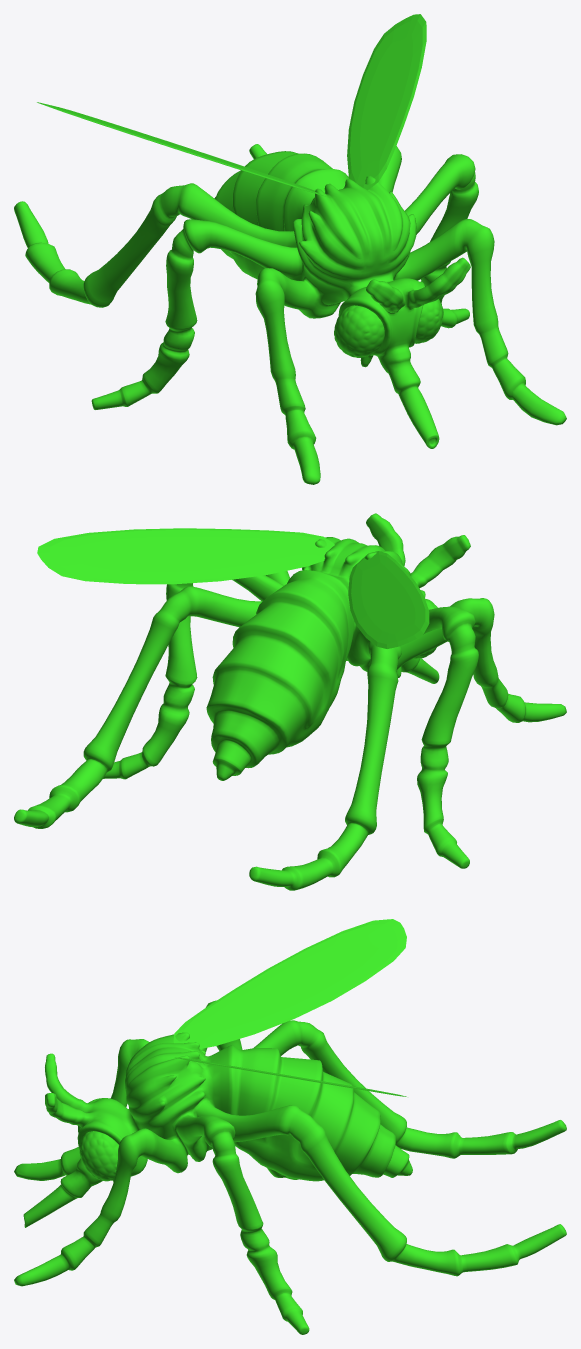
Rendered from bug-3.fbx.
3 views of the same model, one above another, from view 1: azimuth 30°, elevation 25°; view 2: azimuth 150°, elevation 25°; view 3: azimuth 270°, elevation 25° (orthographic). The views are drawn at different scales.
Visible parts, largest first — view 1: 19911_Mosquito_V1_, Plane.001, Plane; view 2: 19911_Mosquito_V1_, Plane.001, Plane; view 3: 19911_Mosquito_V1_, Plane, Plane.001.
Part boxes in pixels (x1,y1,x2,y2): 19911_Mosquito_V1_: (14, 144, 566, 484); Plane.001: (347, 14, 426, 190); Plane: (37, 102, 333, 198); 19911_Mosquito_V1_: (14, 513, 566, 890); Plane.001: (37, 528, 334, 584); Plane: (348, 551, 429, 648); 19911_Mosquito_V1_: (14, 1000, 566, 1334); Plane: (173, 919, 406, 1048); Plane.001: (175, 1057, 406, 1096).
Size of the model in its own units: 730 by 497 by 1001.
